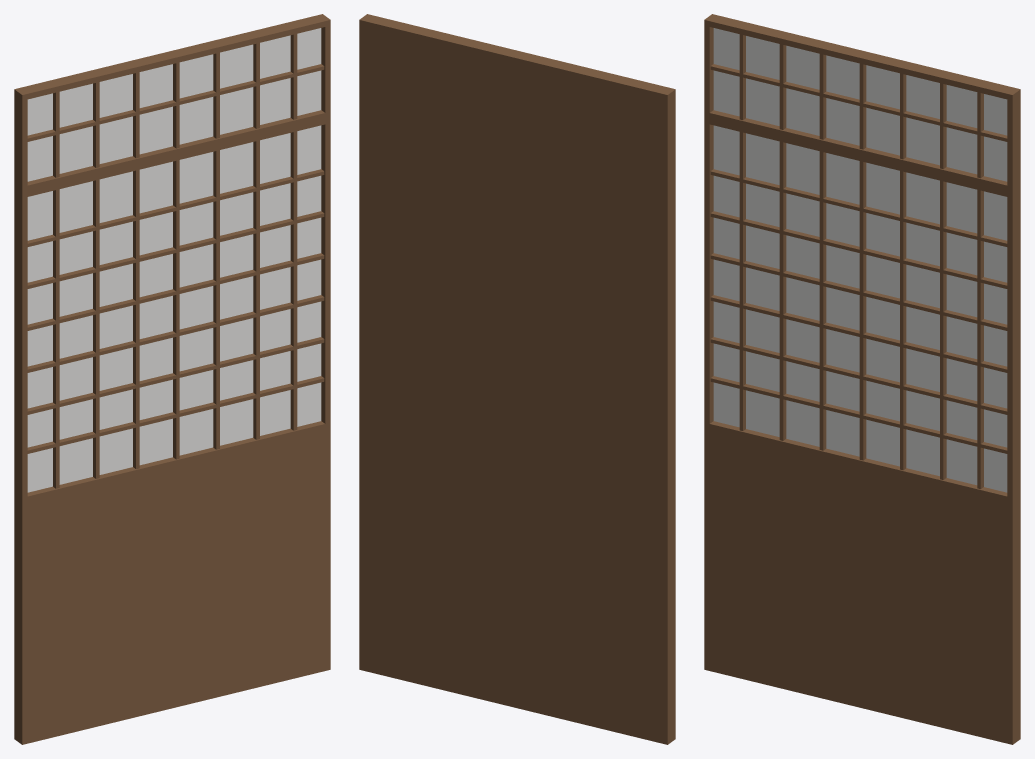
Rendered from SM_door_japanese_01.fbx.
3 views of the same model, side by side, from view 1: azimuth 30°, elevation 25°; view 2: azimuth 150°, elevation 25°; view 3: azimuth 330°, elevation 25° (orthographic).
Visible parts, largest first — view 1: Box013; view 2: Box013; view 3: Box013.
Boxes of the visible parts, left/top/right/bottom form: Box013: left=14, top=14, right=330, bottom=744; Box013: left=359, top=14, right=675, bottom=744; Box013: left=704, top=14, right=1020, bottom=744.
Bounding box in the file's own units: 56.59 × 2.55 × 114.
